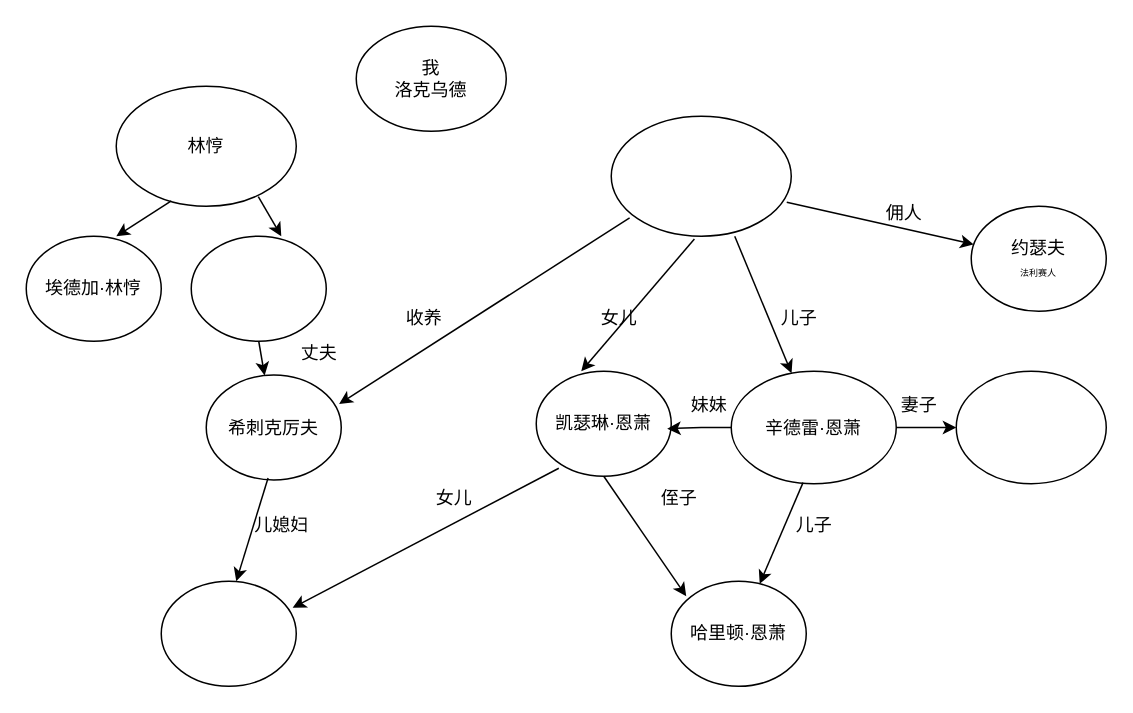
Some shapes in this 1133 by 713 pixel diagram are drawn without their labels. Here are the shapes that lost their labels. From the top down, the centre of each, then its label:
At (x=700, y=175): "恩萧".
At (x=258, y=288): "伊莎贝拉·林悙".
At (x=1030, y=427): "弗兰西斯".
At (x=228, y=633): "希刺克厉夫夫人".
